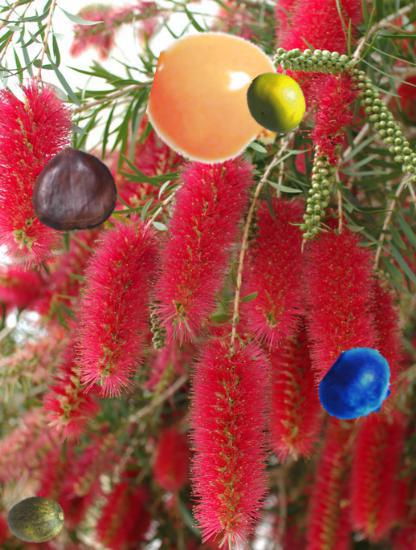Chestnut: (30, 144, 119, 233)
Huckleberry: (317, 345, 398, 426)
Melon: (7, 488, 66, 547)
Physalis: (151, 32, 288, 169)
Pomelo: (244, 70, 310, 136)
